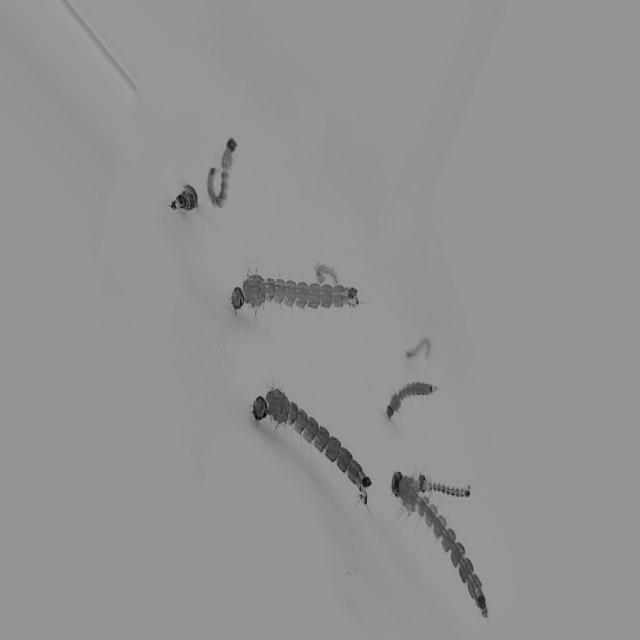larvas: (388, 458, 495, 627), (252, 391, 369, 498), (230, 278, 364, 314), (210, 140, 240, 204), (386, 379, 434, 416), (421, 474, 472, 498), (172, 177, 198, 214), (406, 339, 430, 364), (313, 266, 339, 281)
